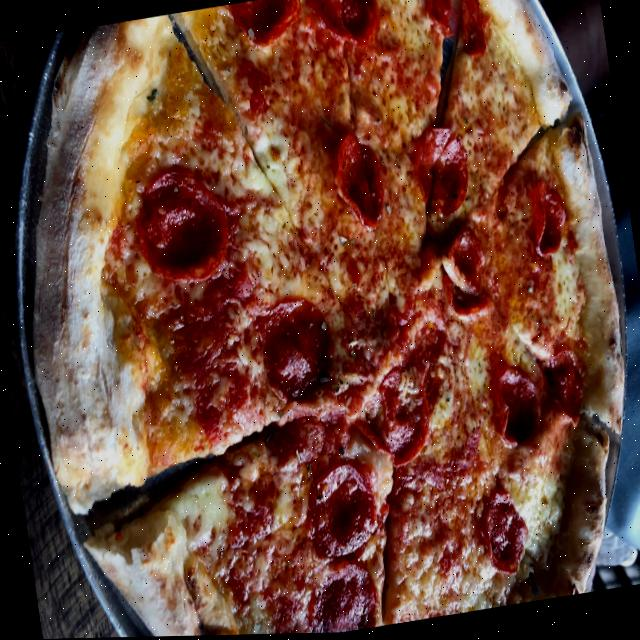pepperoni: (121, 159, 236, 294), (296, 450, 388, 571), (252, 294, 342, 410), (404, 125, 476, 226), (325, 132, 390, 243), (367, 367, 434, 474), (301, 559, 384, 635), (472, 491, 532, 582), (490, 367, 544, 455), (520, 180, 574, 265), (308, 0, 386, 58), (228, 0, 308, 52), (550, 353, 590, 430), (438, 273, 491, 322), (448, 231, 486, 298), (454, 0, 489, 62), (418, 0, 463, 44)
pizza: (0, 0, 640, 640)
